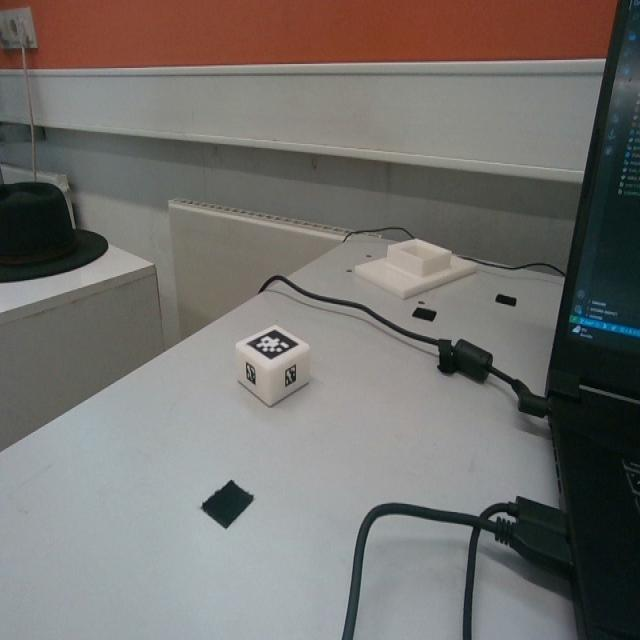Cube: (233, 322, 310, 406)
